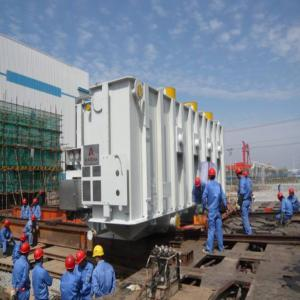red: (76, 250, 88, 269), (66, 255, 76, 274), (34, 249, 45, 266), (21, 243, 31, 259), (209, 168, 217, 182), (235, 168, 243, 180), (195, 177, 202, 188), (278, 193, 284, 203), (5, 221, 11, 230), (21, 235, 27, 244), (34, 199, 40, 207), (290, 189, 295, 198), (23, 199, 28, 207), (32, 216, 37, 224)
yellow: (93, 246, 106, 265)
